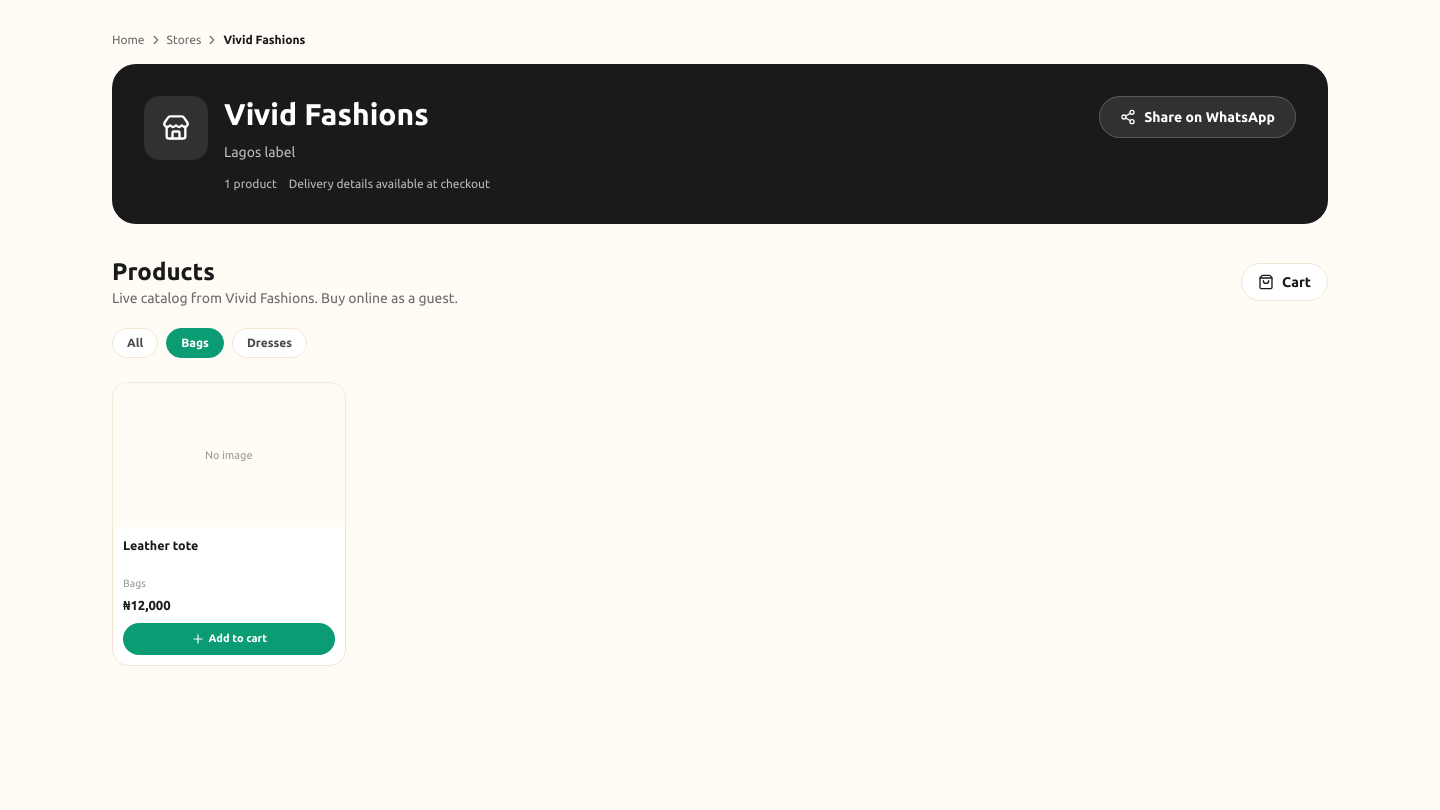
Scenario: SellerStorefront category filter › clears the filter through All
This screenshot has width=1440, height=810.
Expected: the link "Leather tote" is shown, [123, 538, 198, 552]
Step 1. Click the button "All" → (135,343), box [112, 328, 158, 358]
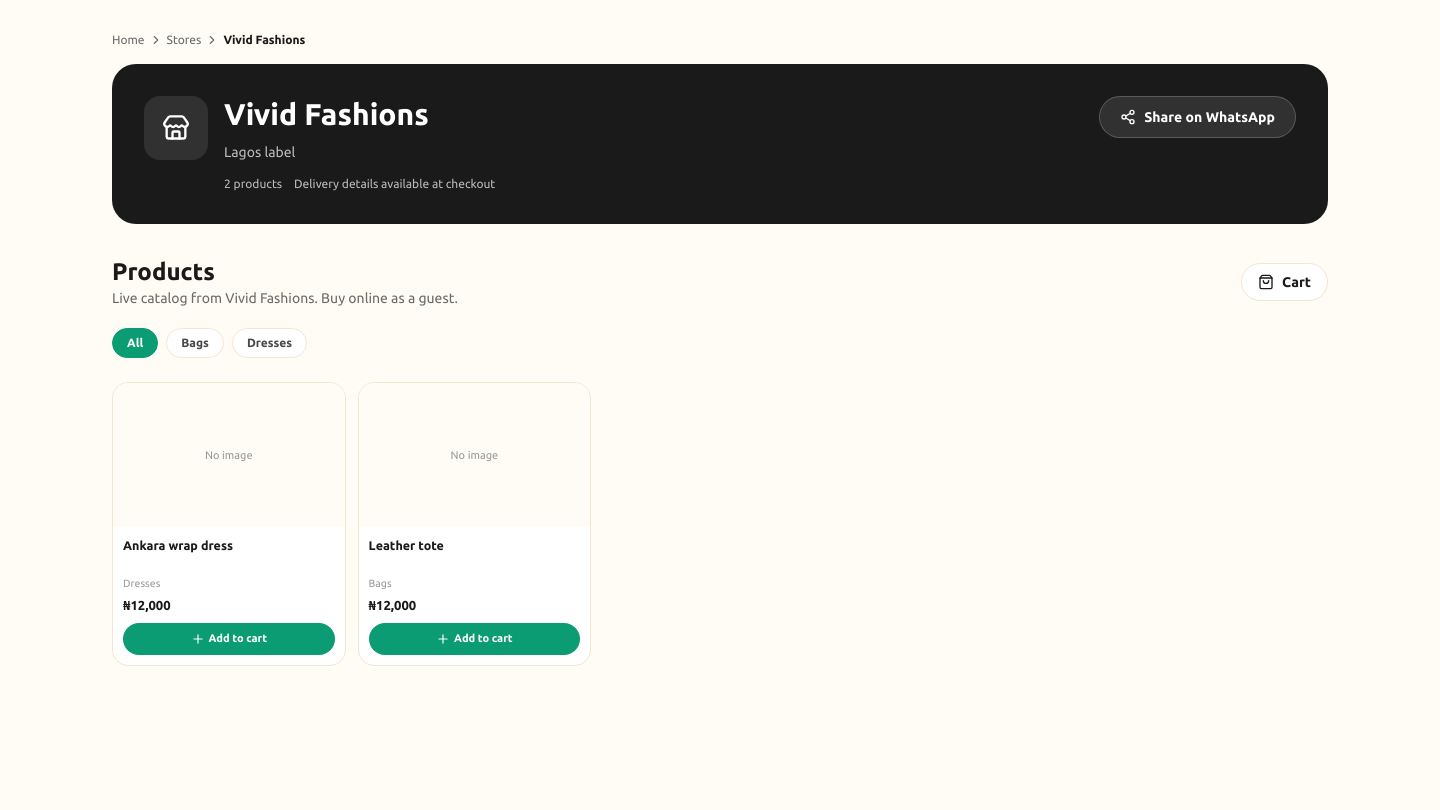
Now the link "Ankara wrap dress" is shown, box [123, 538, 233, 552]
